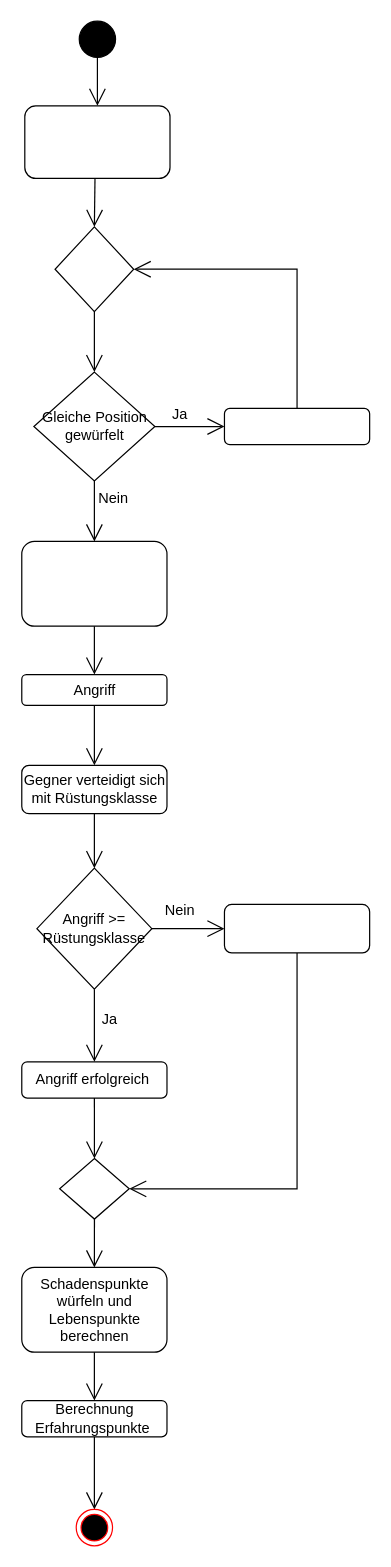
The diagram is 391 pixels wide and 1567 high, and some of its shapes have lost their labels. Here are the shapes that lost their labels. From the top down, the centre of each, then its label:
At (97,141): "Geschicklichkeits-Check für jeden Spieler und Monster".
At (296,426): "Neu Würfeln".
At (94,583): "Spieler entscheiden nach gewürfelter Reihenfolge, welche Waffe benutzt wird".
At (296,928): "Angriff erfolglos".
